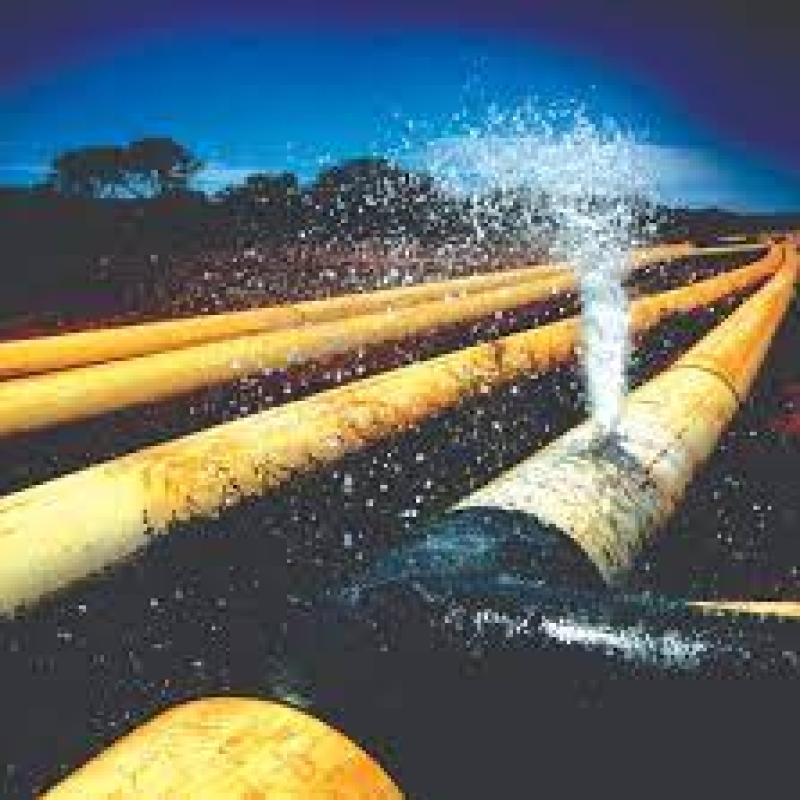Fracture: (406, 325, 701, 589)
